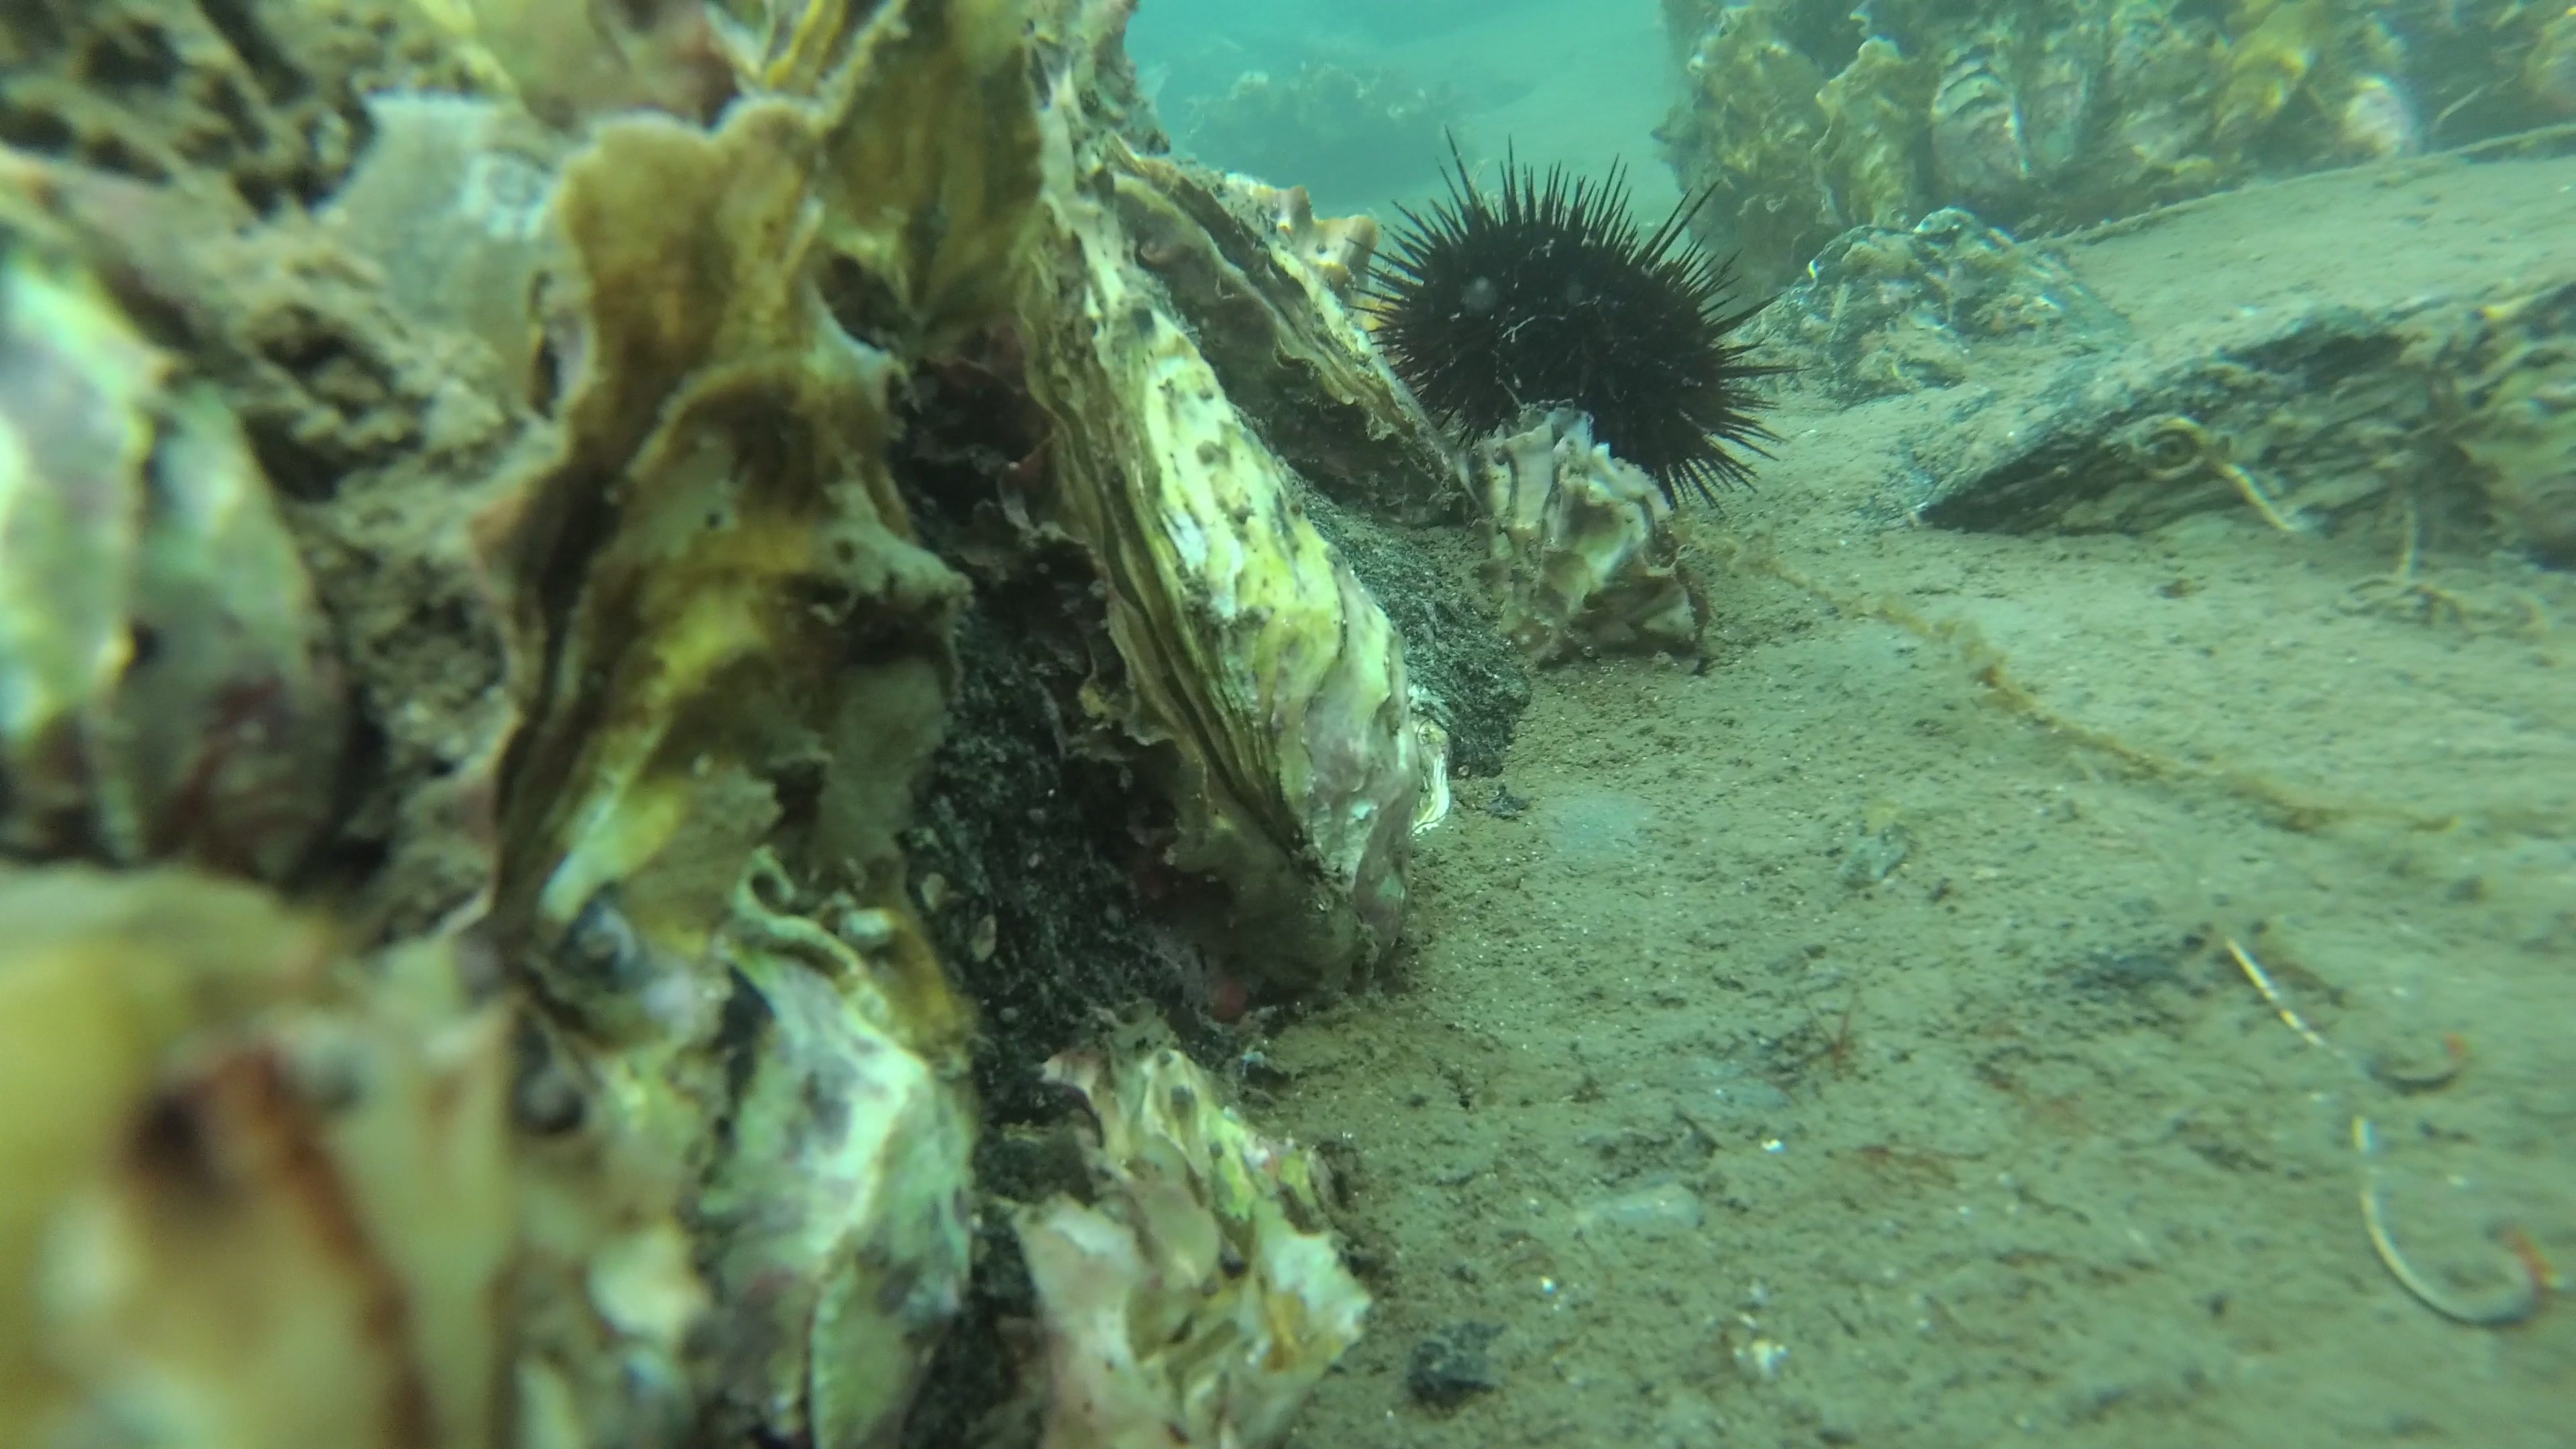echinus: (1334, 115, 1806, 522)
